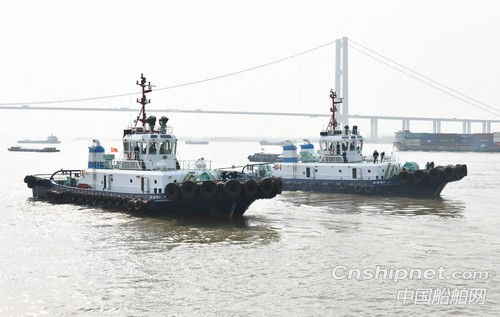otherboat: (17, 79, 296, 218), (255, 92, 468, 195)
